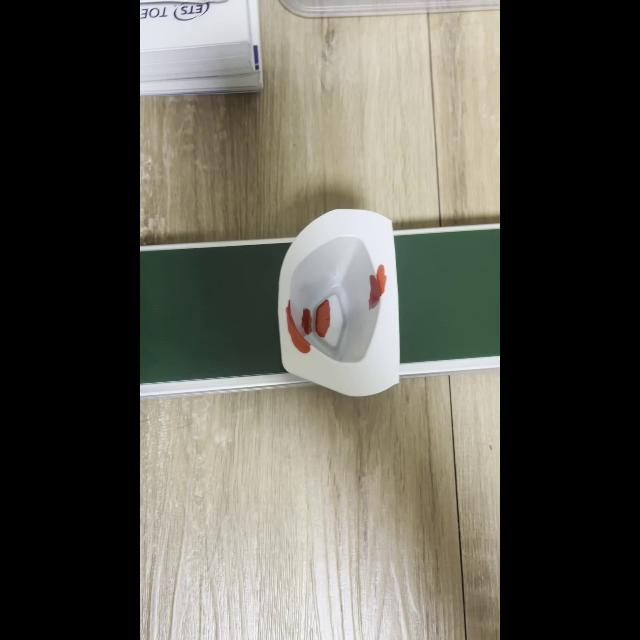dirty: (280, 209, 398, 391)
